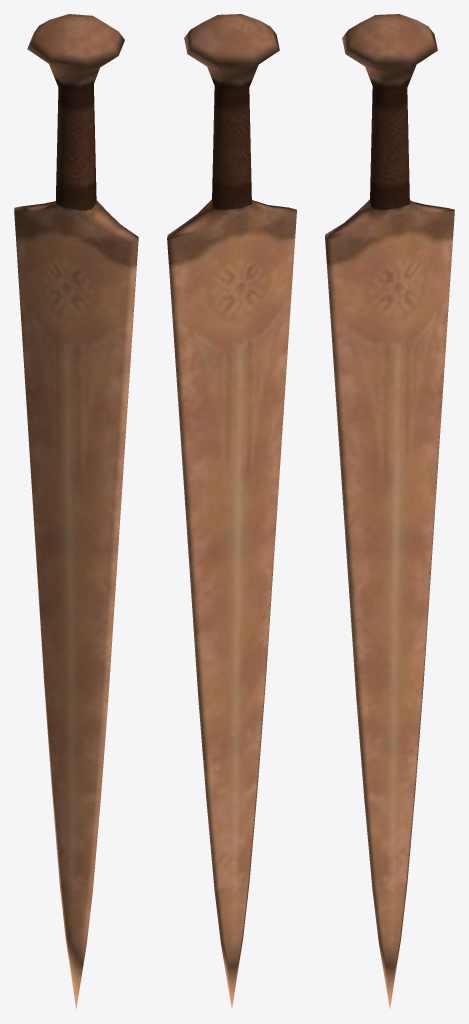
File: rider-weapon-slice-ironweapons.glb
3 renders of one model, left to right at view 1: azimuth 90°, elevation 25°; view 2: azimuth 150°, elevation 25°; view 3: azimuth 330°, elevation 25°, orthographic.
Size of the model in its own units: 0.0994 by 1.11 by 0.1267.
Materials: 1 (1 with a texture image).
